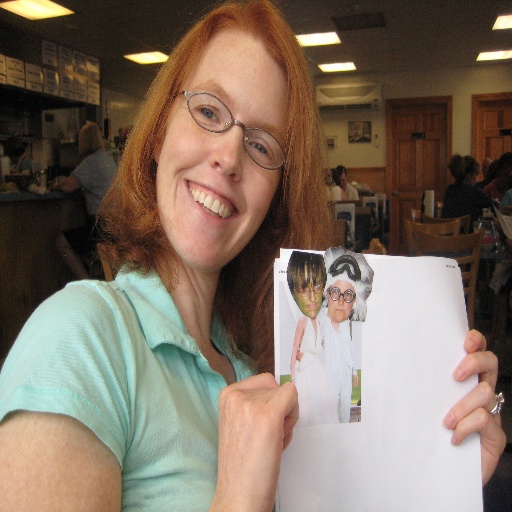hand: (218, 370, 298, 511), (452, 321, 505, 473), (295, 346, 303, 360), (352, 372, 359, 387)
